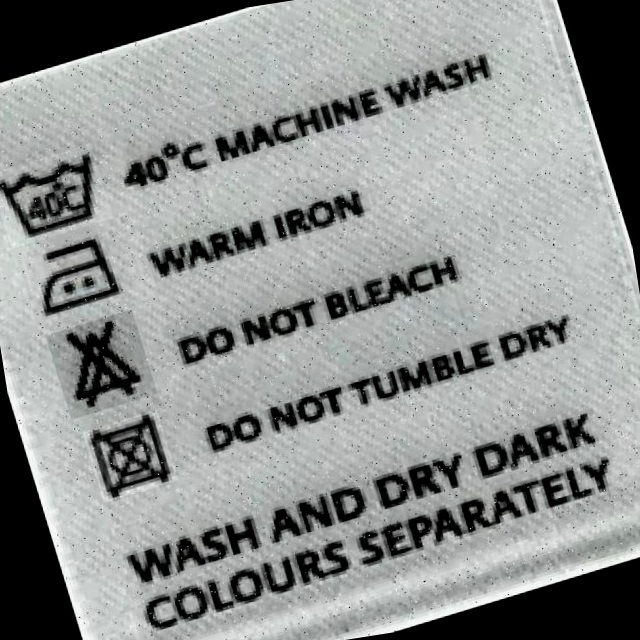40C: (0, 147, 108, 244)
DN_bleach: (54, 313, 148, 409)
DN_tumble_dry: (79, 408, 179, 509)
iron_medium: (29, 232, 129, 318)
